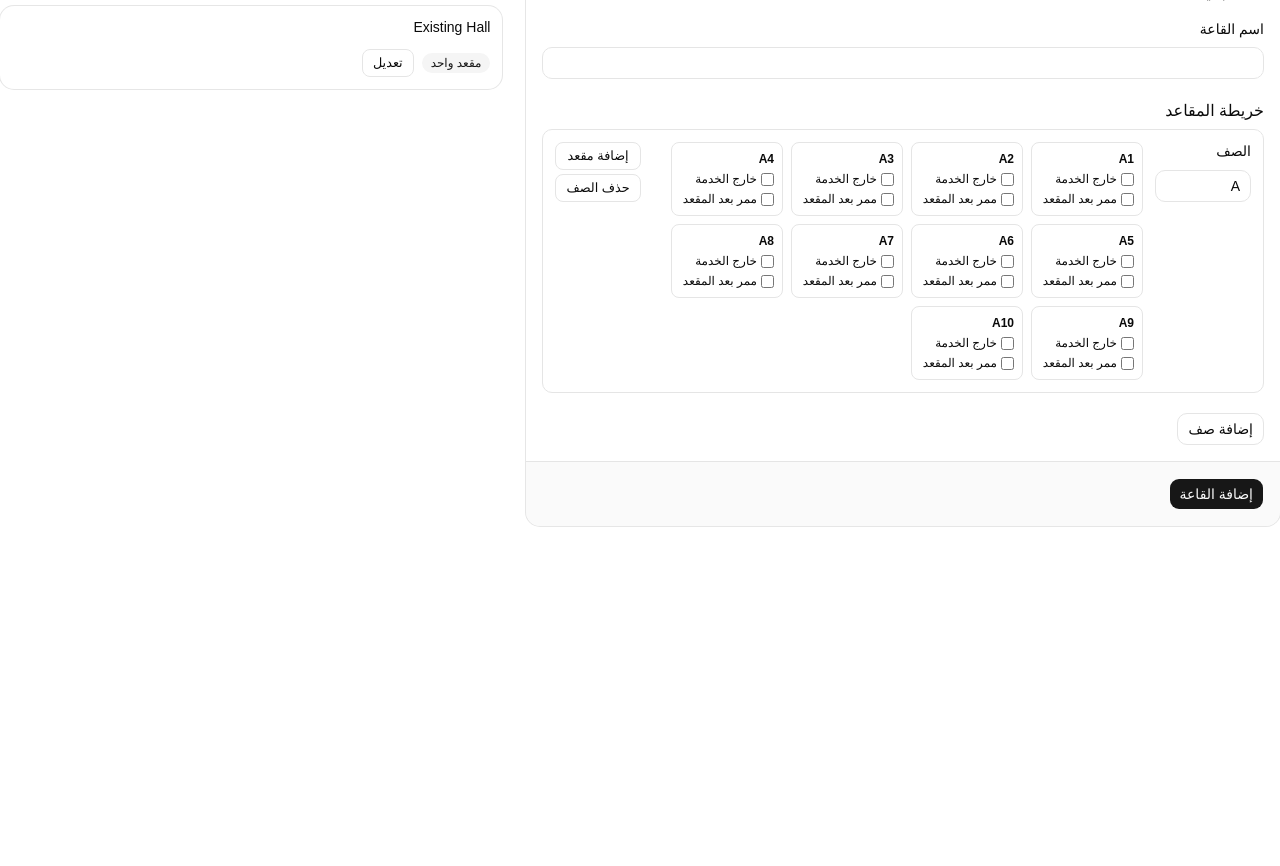
Test case: AuditoriumAdmin seat-map editor › uses a free row label after removing a row and editing a label
Later steps or results of the test are not shown.
Type "Main Hall" into the field labelled "اسم القاعة". click: x=903, y=63
box: [542,47,1264,79]
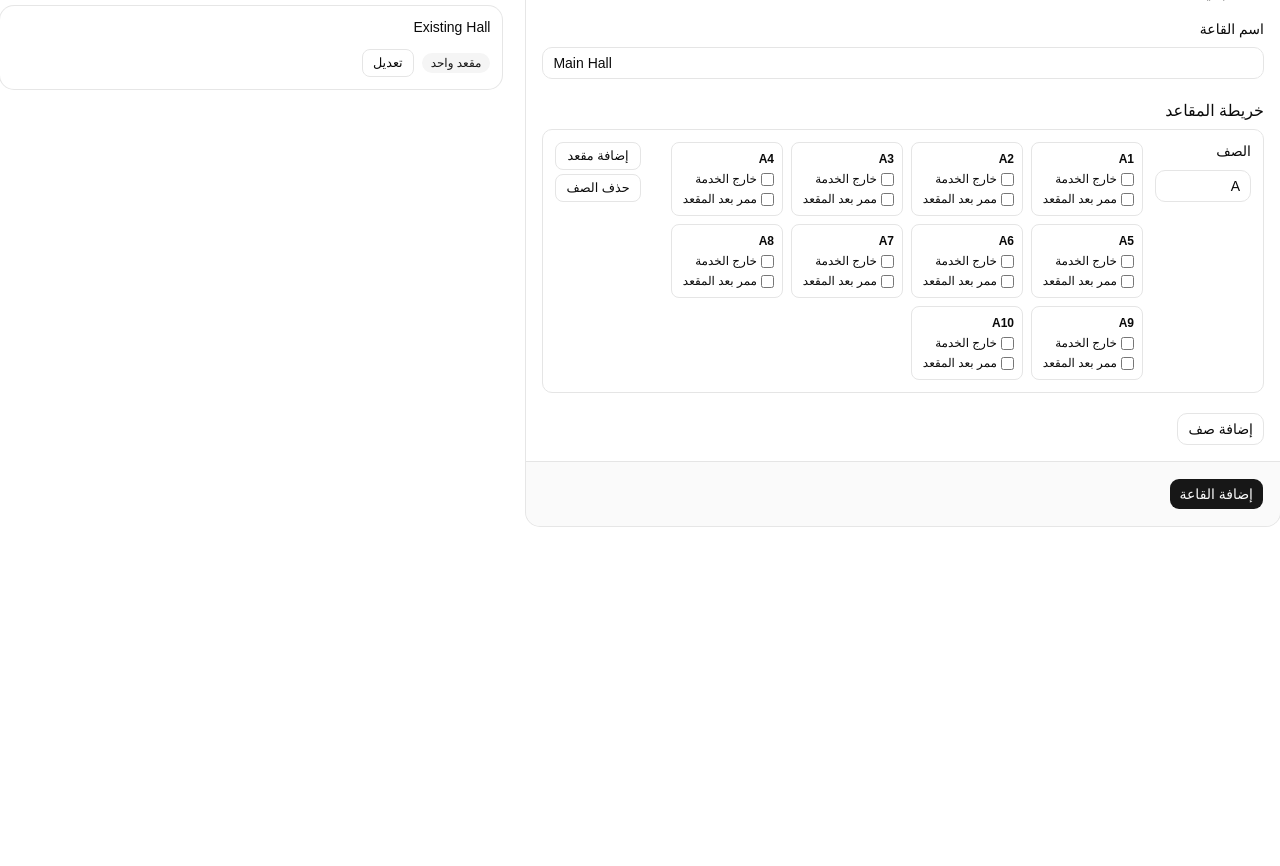
Click the button "إضافة صف". click: x=1221, y=429
box: [1178,413,1264,445]
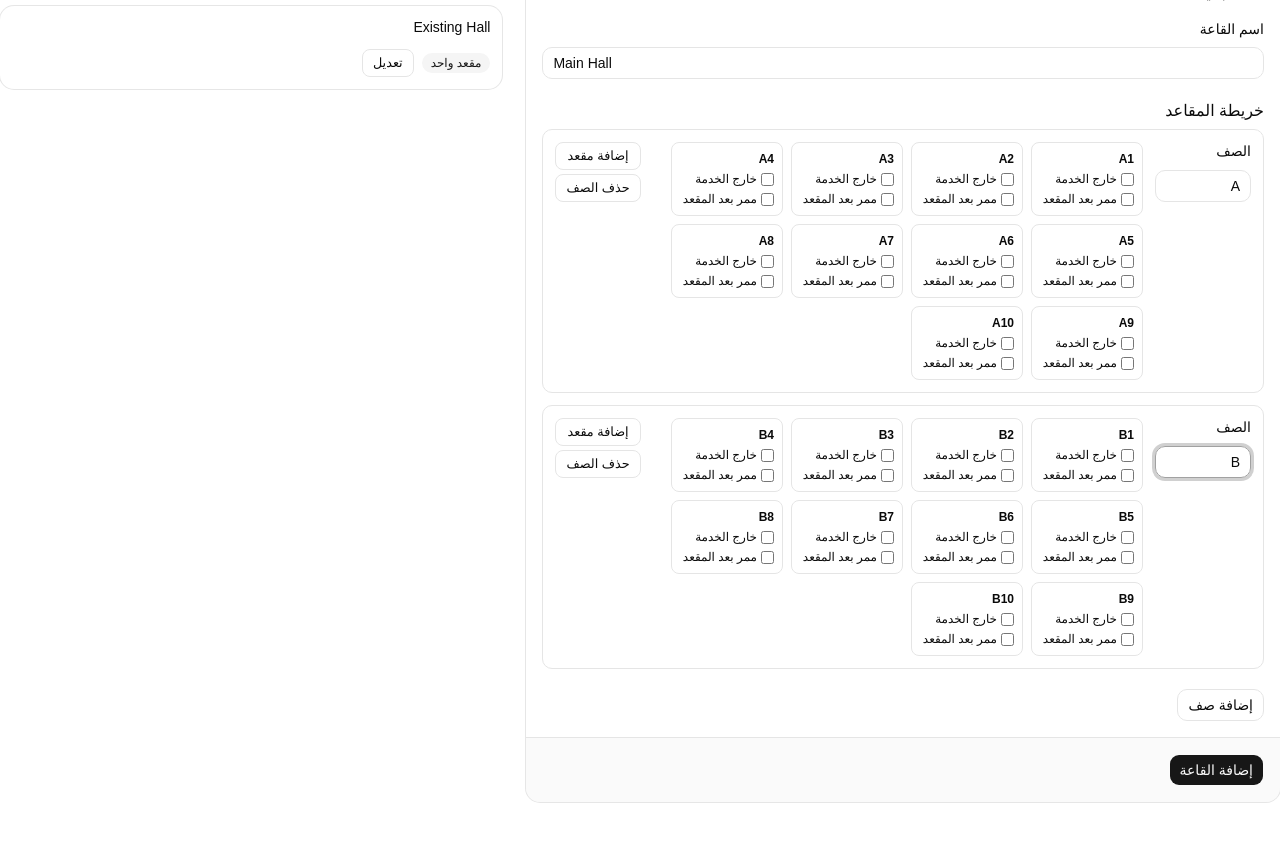
Click the 1st button "حذف الصف". click: x=598, y=188
box: [555,174,641,202]
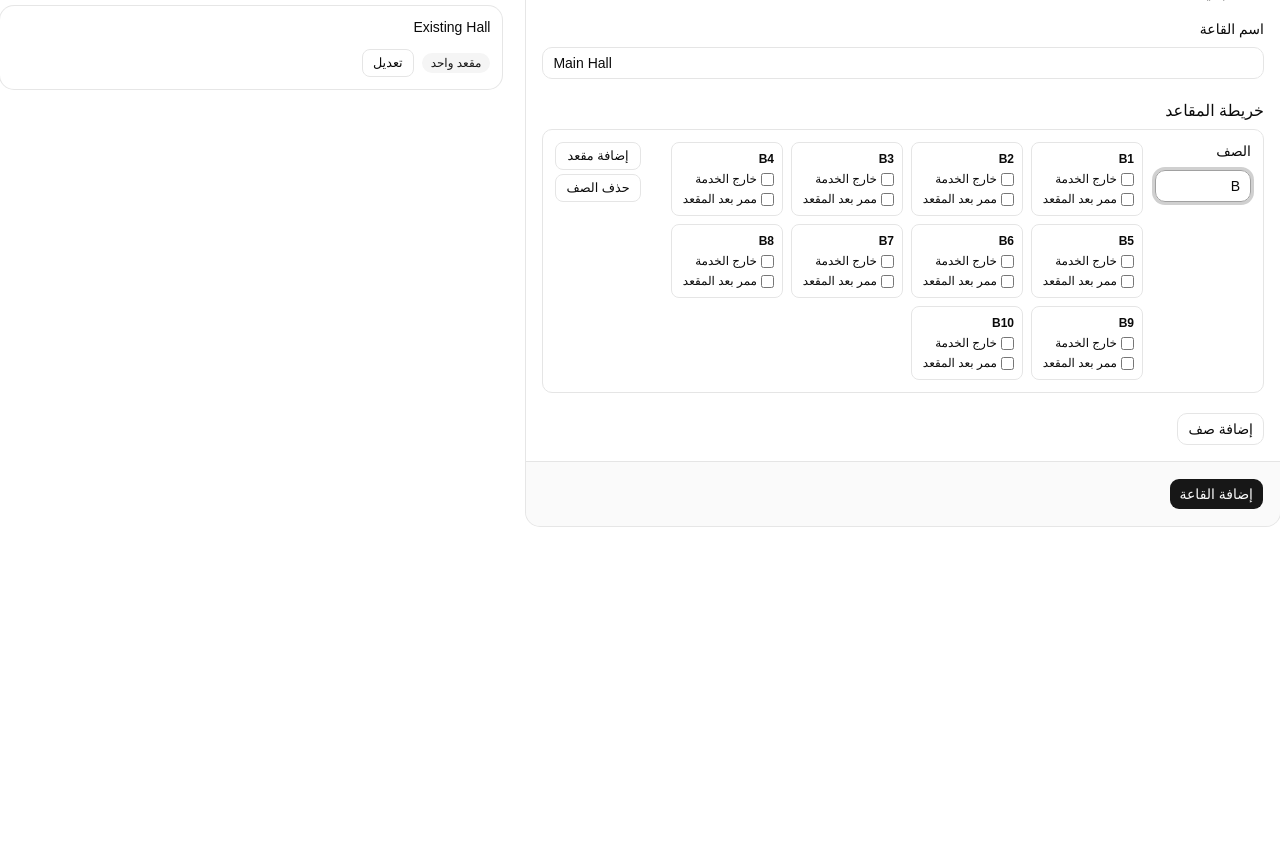
Click the button "إضافة صف". click: x=1221, y=429
box: [1178,413,1264,445]
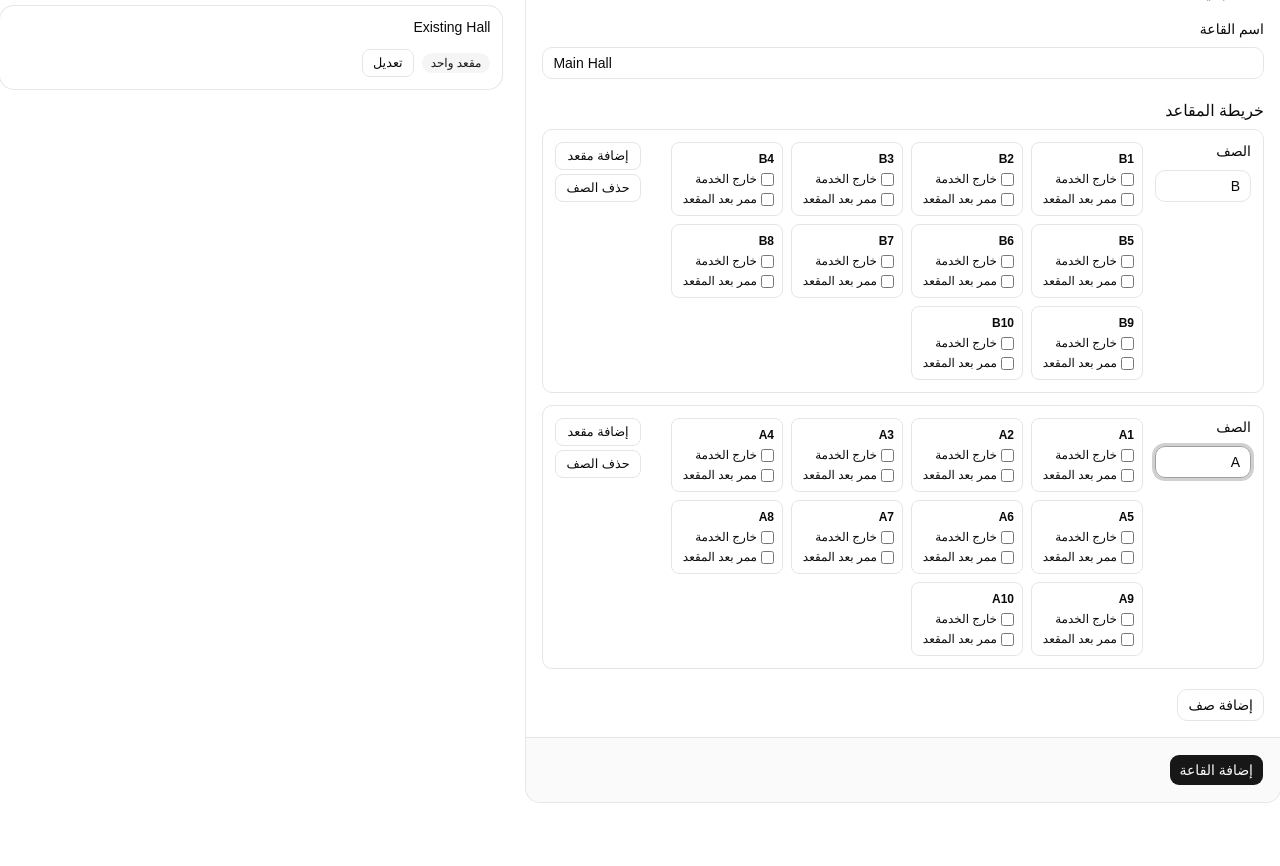
Check: the text "B1" is shown once, box [1119,152,1134,166]
Check: the text "A1" is shown once, box [1119,428,1134,442]
Replace the text in the 1st field labelled "الصف" with " c ". click: x=1203, y=186
box: [1155,170,1251,202]
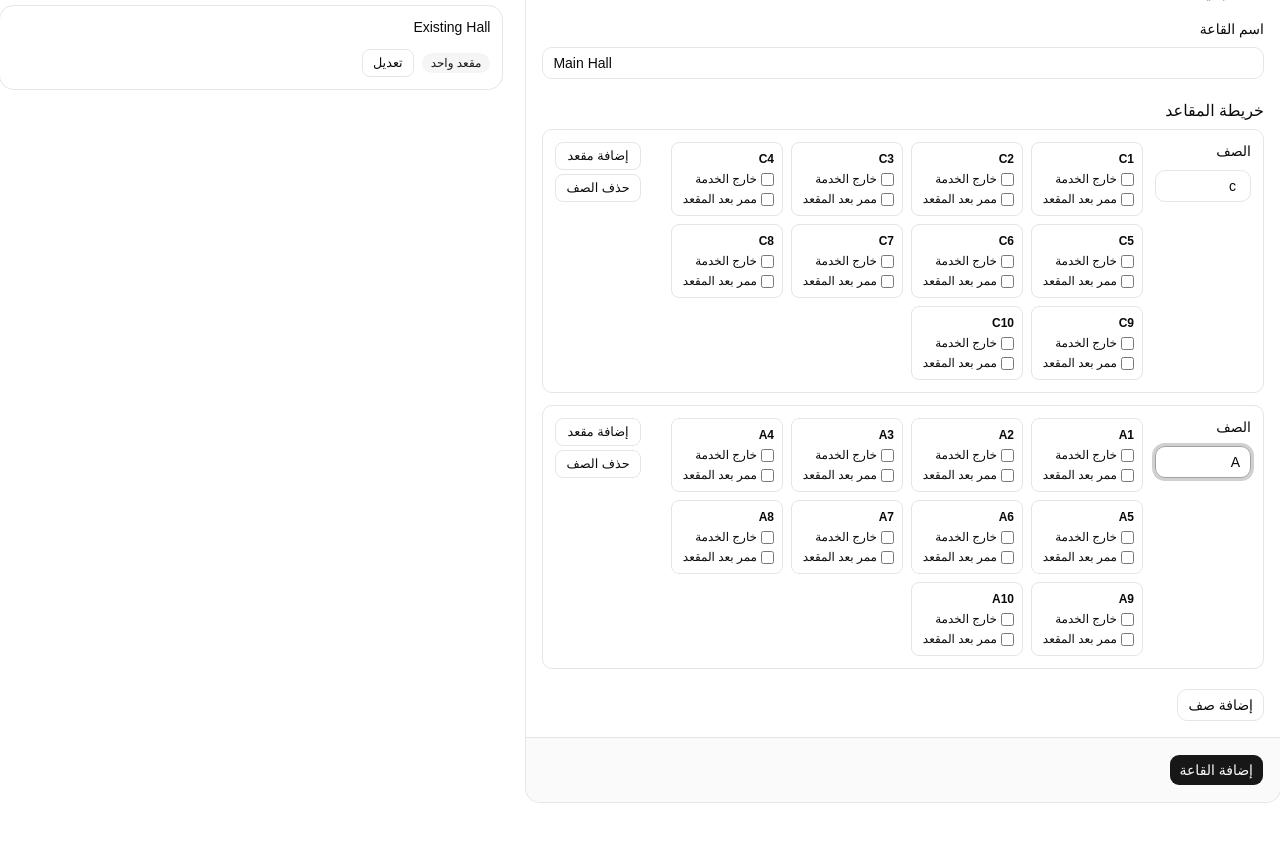
Click the button "إضافة صف". click: x=1221, y=705
box: [1178,689,1264,721]
(page scrolled)
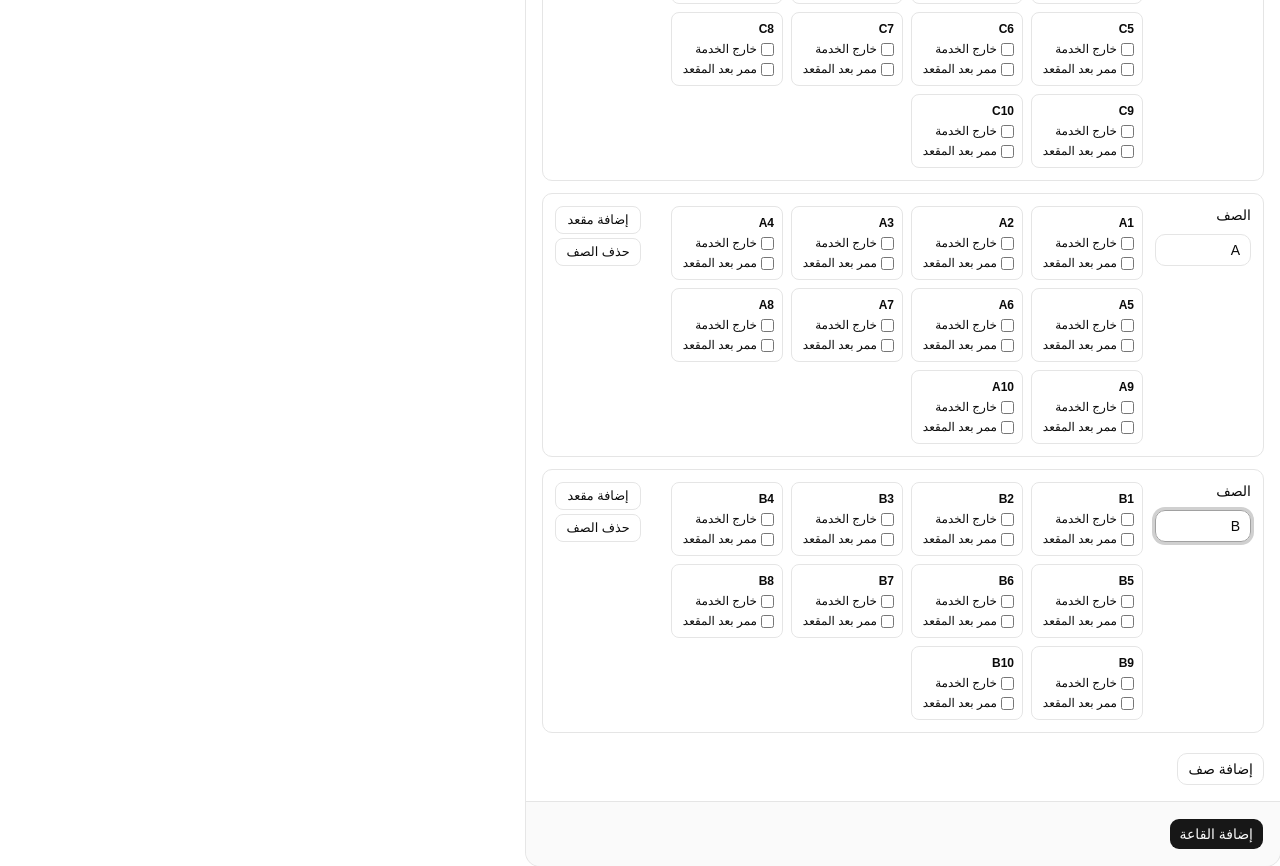
Check: the text "B1" is shown, box [1119,492,1134,506]
